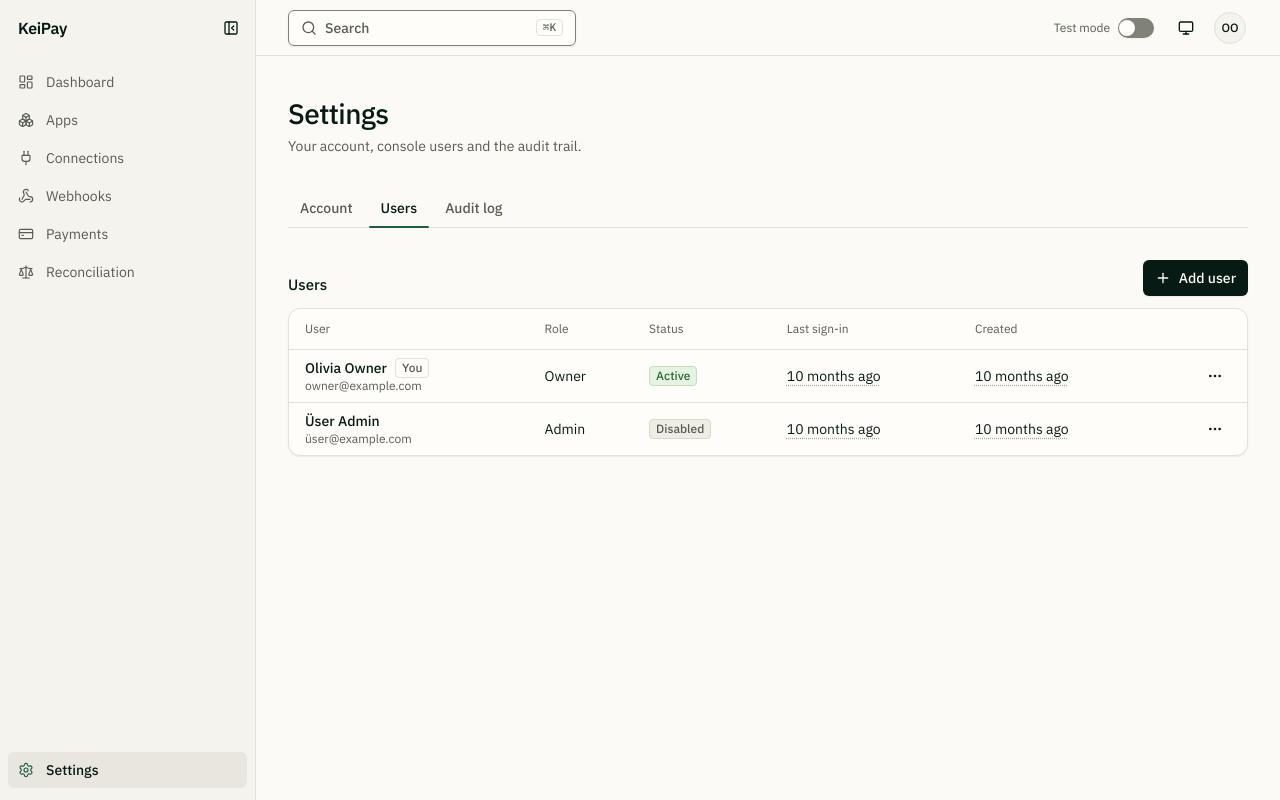
Users page › offers Enable instead of Disable on a disabled user
The width and height of the screenshot is (1280, 800).
Click the button named "Actions for üser@example.com": (1215, 428) top-left (1199, 412), bottom-right (1231, 444)
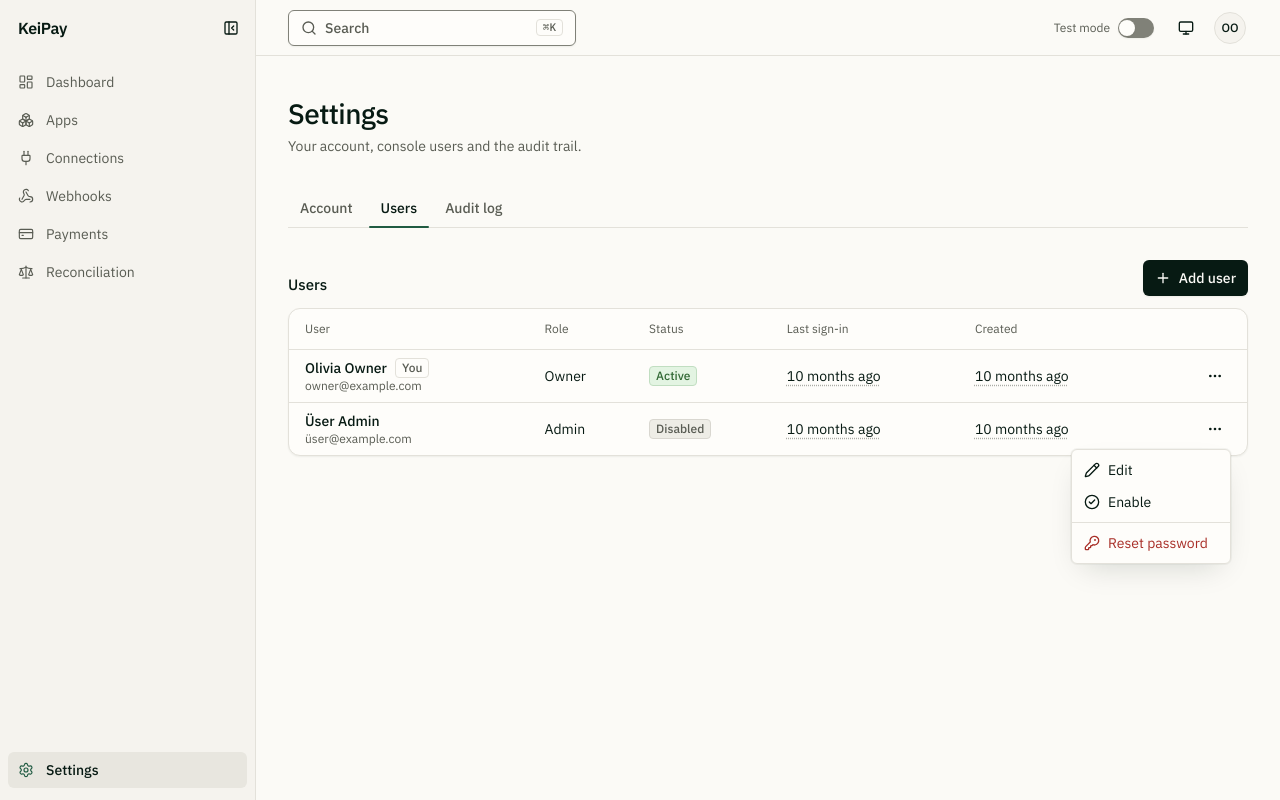
Expected: the menu item "Enable" is shown, top-left (1084, 493), bottom-right (1151, 511)
